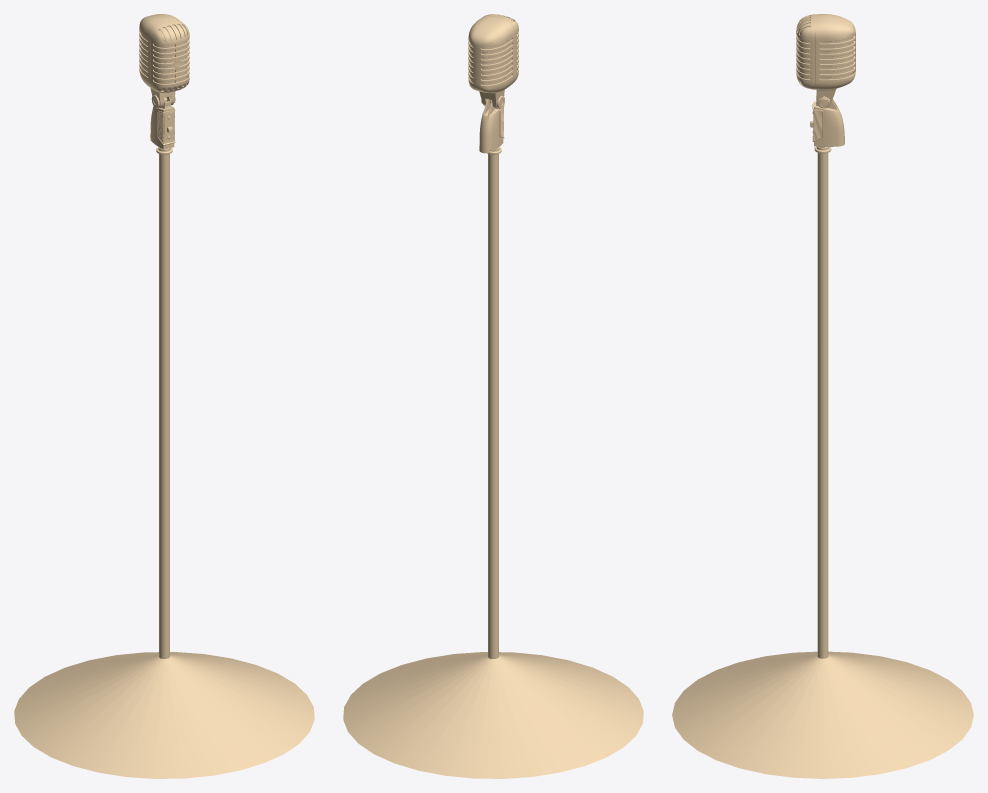
The model's file is micro.fbx.
The picture shows the model from 3 angles, left to right: view 1: azimuth 30°, elevation 25°; view 2: azimuth 150°, elevation 25°; view 3: azimuth 270°, elevation 25°; orthographic projection.
Parts seen in each view (by area): view 1: microphone_shure_sh55; view 2: microphone_shure_sh55; view 3: microphone_shure_sh55.
Boxes of the visible parts, box(x1,y1,x2,y2) form: microphone_shure_sh55: box(14, 14, 314, 778); microphone_shure_sh55: box(343, 14, 643, 778); microphone_shure_sh55: box(672, 14, 973, 778).
Size of the model in its own units: 185 by 472 by 185.
